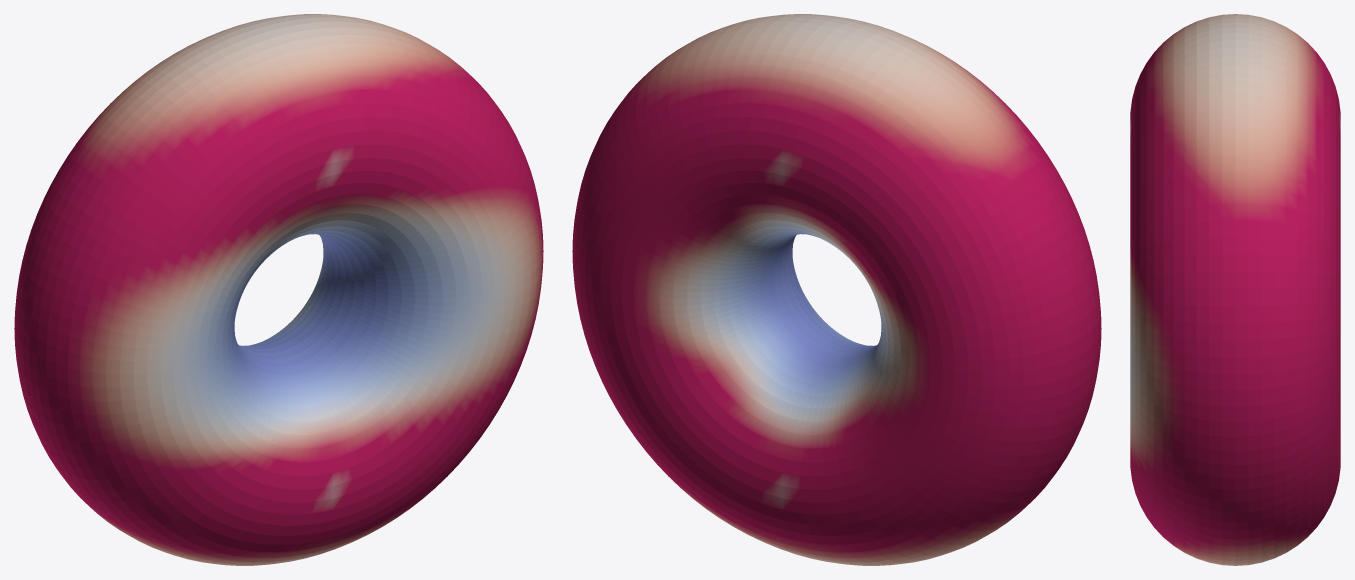
The picture shows the model from 3 angles, left to right: view 1: azimuth 30°, elevation 25°; view 2: azimuth 150°, elevation 25°; view 3: azimuth 270°, elevation 25°; orthographic projection. The views are drawn at different scales.
Parts seen in each view (by area): view 1: world; view 2: world; view 3: world.
Boxes of the visible parts, x1,y1,x2,y2 form: world: (14,14,543,565); world: (572,14,1101,565); world: (1130,14,1340,565).
Size of the model in its own units: 24.8 by 24.8 by 9.45.
